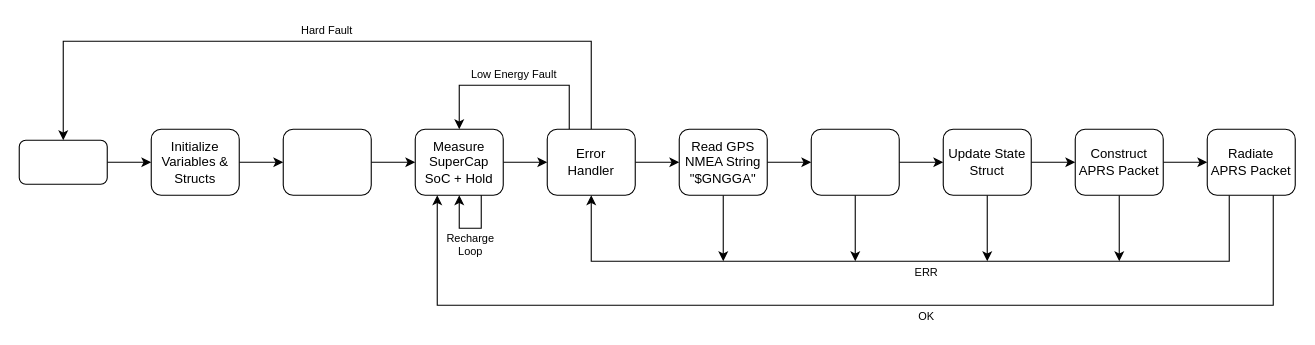
The diagram is 1315 pixels wide and 345 high, and some of its shapes have lost their labels. Each missing label, with the box of its shape:
Initialize Hardware Interfaces: (282, 128, 371, 195)
Parse NMEA String "$GNGGA": (810, 128, 899, 195)
Start: (18, 139, 107, 184)
